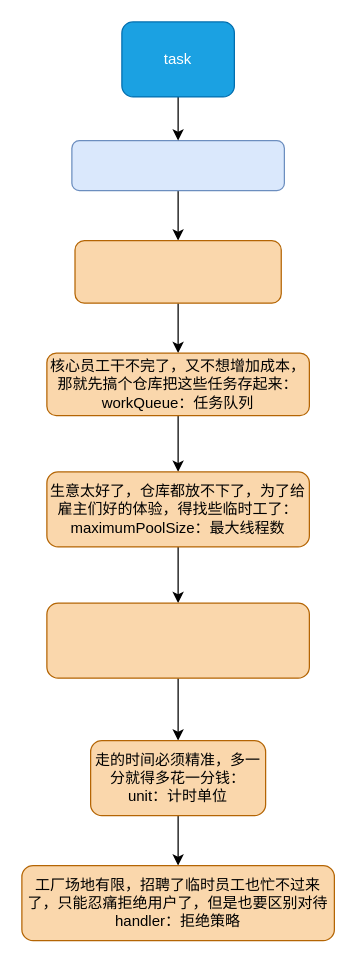
This 356x963 diagram has some shape labels left out. Each missing label, with the box of its shape:
临时工也是有成本的，干完活就让它滚蛋吧，限定一个时间让它走人： keepAliveTime：非核心线程存活时间: (46, 602, 309, 678)
指定长期正式员工数量corePoolSize：核心线程数: (74, 239, 281, 303)
搞个工厂接单: threadFactory：线程池: (71, 139, 284, 191)
